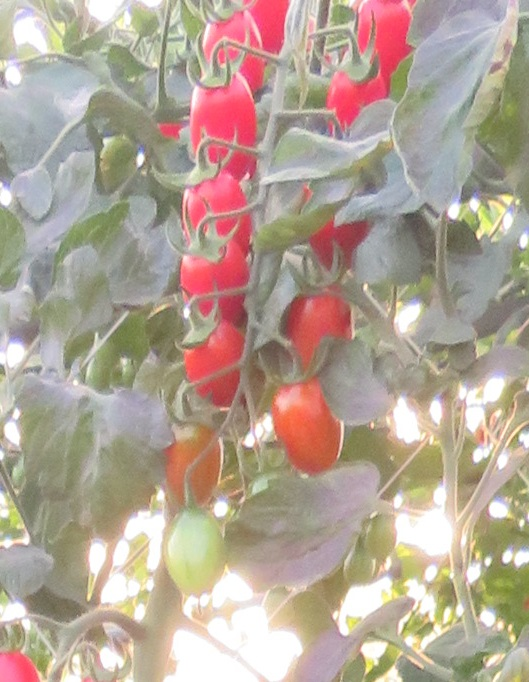green: (160, 504, 227, 599)
orange: (272, 378, 345, 473), (163, 425, 220, 509)
red: (191, 68, 258, 176), (178, 236, 250, 328), (287, 289, 354, 371), (184, 159, 248, 241), (355, 1, 414, 85), (201, 9, 269, 79), (308, 210, 372, 278), (326, 65, 388, 135)
